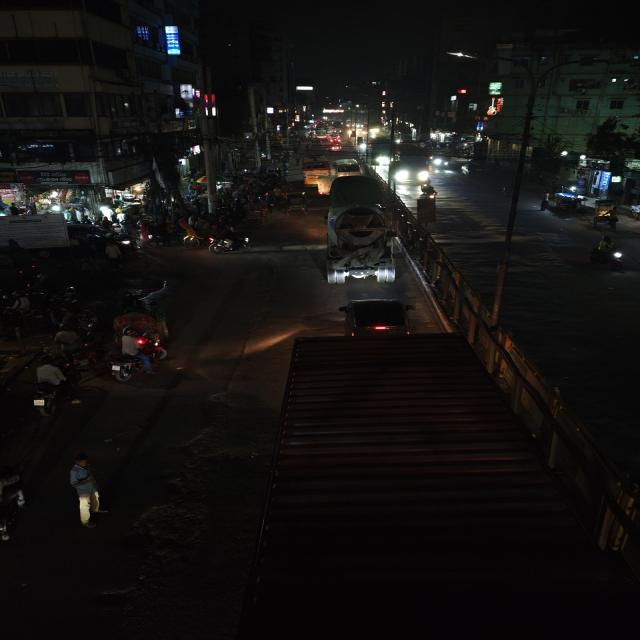bus: (392, 143, 431, 187), (300, 157, 332, 185)
car: (333, 158, 362, 176)
cng: (337, 296, 412, 339), (282, 190, 312, 217)
motorcycle: (0, 461, 27, 553), (592, 234, 628, 272), (208, 226, 253, 254)
pedestrian: (65, 452, 106, 526)
rickshaw: (320, 199, 398, 287), (114, 312, 172, 360), (177, 212, 206, 256), (281, 190, 311, 218)
truck: (259, 330, 569, 635), (391, 144, 433, 186)
